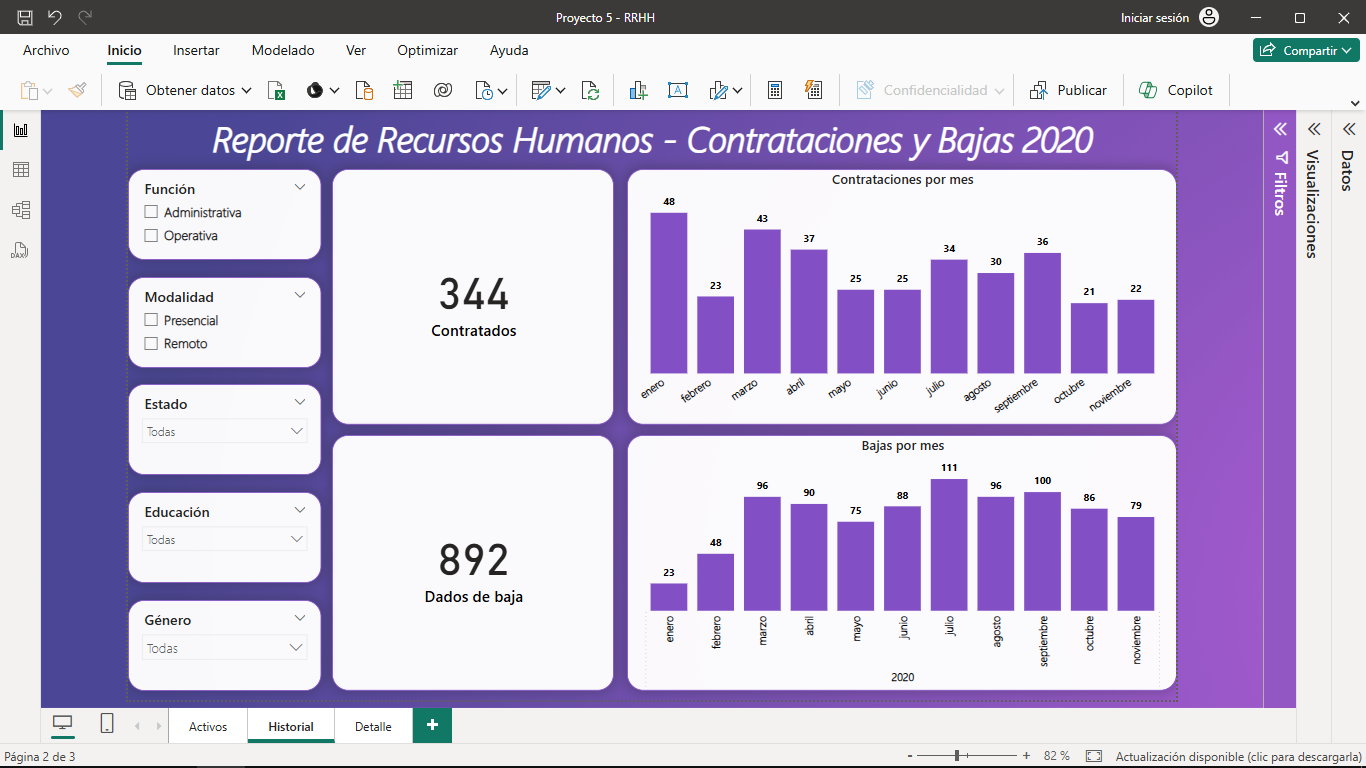

What the dashboard file says about the page in this screenshot:
{"tool":"powerbi","page":{"name":"Historial","canvas":[1280,720],"ordinal":1},"visuals":[{"type":"card","fields":{"Values":["RH.Total Emp"]},"box":[249.1,72,344.2,312.5],"z":0},{"type":"columnChart","title":"Contrataciones por mes","fields":{"Category":["RH.Fecha Contratación.Variación.Jerarquía de fechas.Año","RH.Fecha Contratación.Variación.Jerarquía de fechas.Mes"],"Y":["RH.Total Emp"]},"box":[609.1,72,671,312.5],"z":1000},{"type":"textbox","box":[0,0,1280.2,72],"z":2000},{"type":"card","fields":{"Values":["RH.Total Emp"]},"box":[249.1,396,344.2,312.5],"z":3000},{"type":"columnChart","title":"Bajas por mes","fields":{"Y":["RH.Total Emp"],"Category":["RH.Fecha Baja.Variación.Jerarquía de fechas.Año","RH.Fecha Baja.Variación.Jerarquía de fechas.Mes"]},"box":[609.1,396,671,312.5],"z":4000},{"type":"slicer","fields":{"Values":["RH.Función"]},"box":[0,72,236.2,110.9],"z":5000},{"type":"slicer","fields":{"Values":["RH.Unidad"]},"box":[0,334.8,236.2,110.9],"z":6000},{"type":"slicer","fields":{"Values":["RH.Modalidad"]},"box":[0,203.4,236.2,110.9],"z":7000},{"type":"slicer","fields":{"Values":["RH.Educación"]},"box":[0,466.2,236.2,110.9],"z":8000},{"type":"slicer","fields":{"Values":["RH.Género"]},"box":[0,597.6,236.2,110.9],"z":9000}]}

Visuals, with their boxes on the page's 1280x720 design canvas (x1, y1, x2, y2). These are canvas units, not pixel positions in the 1366x768 screenshot, which may show the page scaled, cropped or inside an application window:
card - RH.Total Emp: select_region(249, 72, 593, 384)
"Contrataciones por mes" columnChart: select_region(609, 72, 1280, 384)
textbox: select_region(0, 0, 1280, 72)
card - RH.Total Emp: select_region(249, 396, 593, 708)
"Bajas por mes" columnChart: select_region(609, 396, 1280, 708)
slicer - RH.Función: select_region(0, 72, 236, 183)
slicer - RH.Unidad: select_region(0, 335, 236, 446)
slicer - RH.Modalidad: select_region(0, 203, 236, 314)
slicer - RH.Educación: select_region(0, 466, 236, 577)
slicer - RH.Género: select_region(0, 598, 236, 708)
